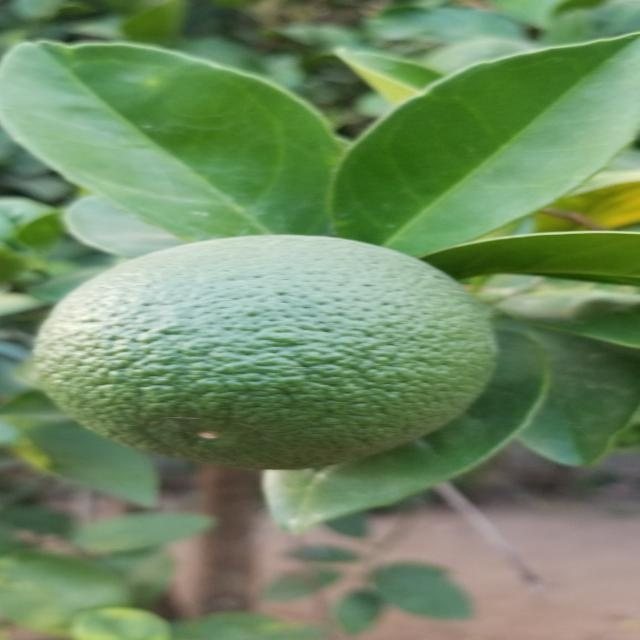agrume: (36, 232, 526, 481)
